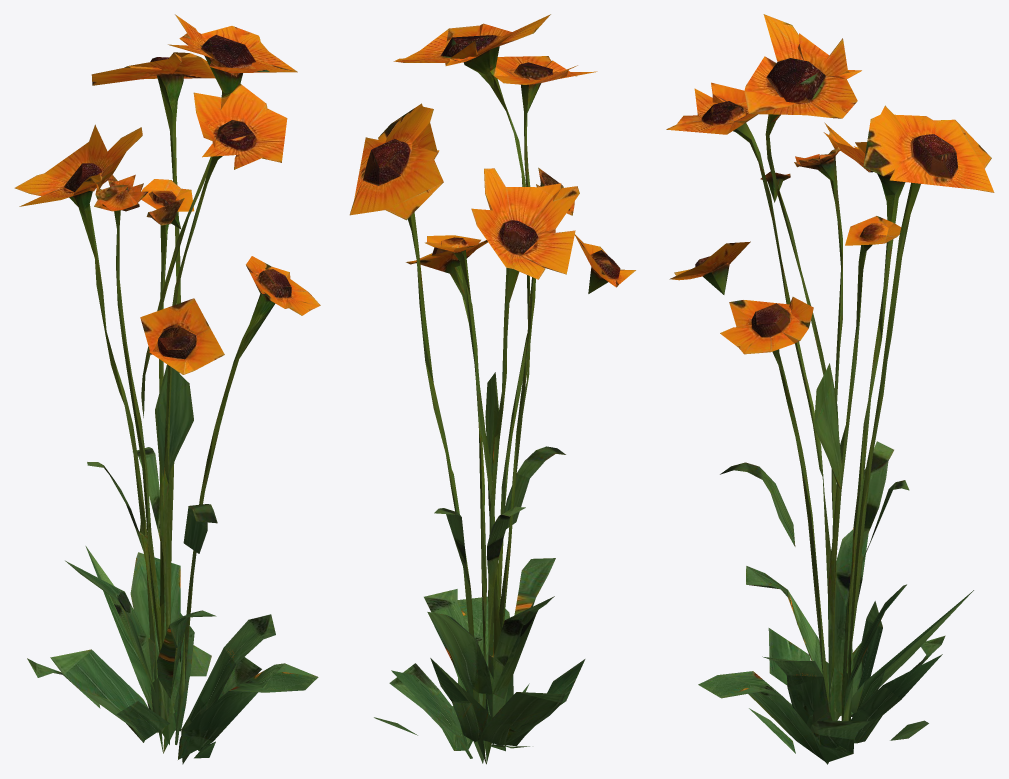
The model's file is Flowers.glb.
3 renders of one model, left to right at view 1: azimuth 30°, elevation 25°; view 2: azimuth 150°, elevation 25°; view 3: azimuth 270°, elevation 25°, orthographic. The views are drawn at different scales.
Bounding box in the file's own units: 0.1545 × 0.5 × 0.2033.
1 material, 1 textured.
